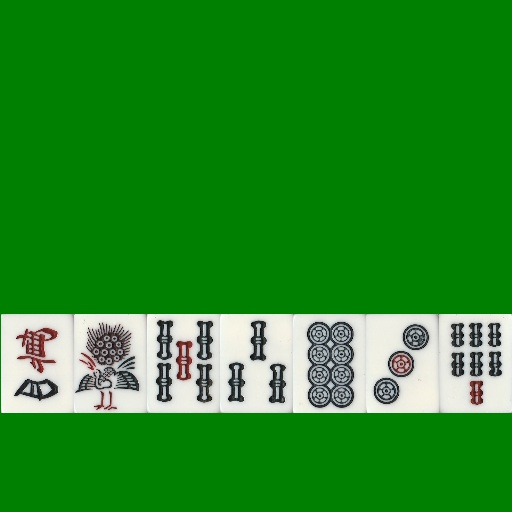1s: (74, 314, 147, 413)
3p: (366, 314, 439, 413)
3s: (220, 314, 293, 413)
4m: (1, 314, 74, 413)
5s: (147, 314, 220, 413)
7s: (439, 314, 512, 413)
8p: (293, 314, 366, 413)
